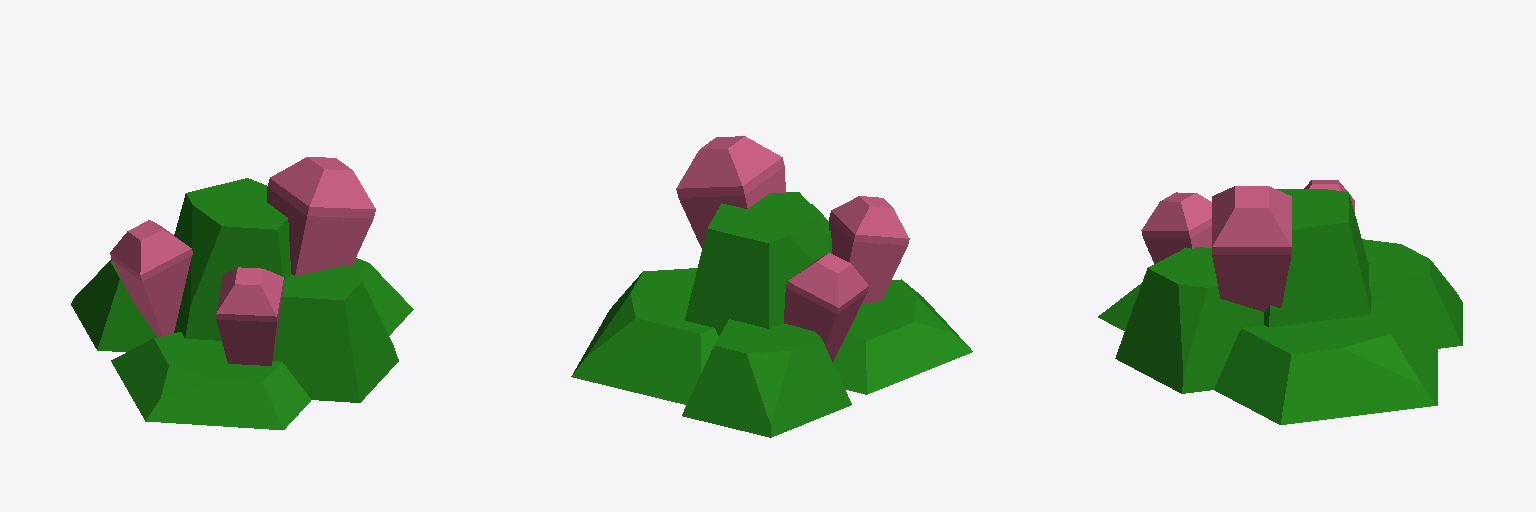
File: CrystalHill.obj
3 views of the same model, side by side, from view 1: azimuth 30°, elevation 25°; view 2: azimuth 150°, elevation 25°; view 3: azimuth 270°, elevation 25° (orthographic).
Parts seen in each view (by area): view 1: crystal; view 2: crystal; view 3: crystal.
Part boxes in pixels (x1,y1,x2,y2): crystal: (71,157,413,429); crystal: (571,136,972,437); crystal: (1098,180,1462,424).
Bounding box in the file's own units: 1 × 0.5565 × 1.